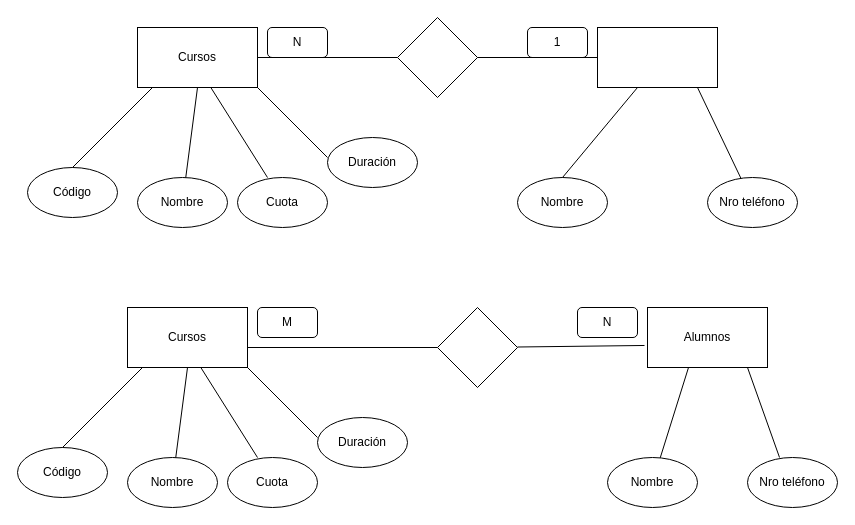
Image size: 855x525. Some labels were removed from this diagram. Here are the shapes that lost their labels. From the top down, the centre of each, then its label:
At [437,57]: "Dicta".
At [657,57]: "Instructor".
At [477,347]: "Cursa".
